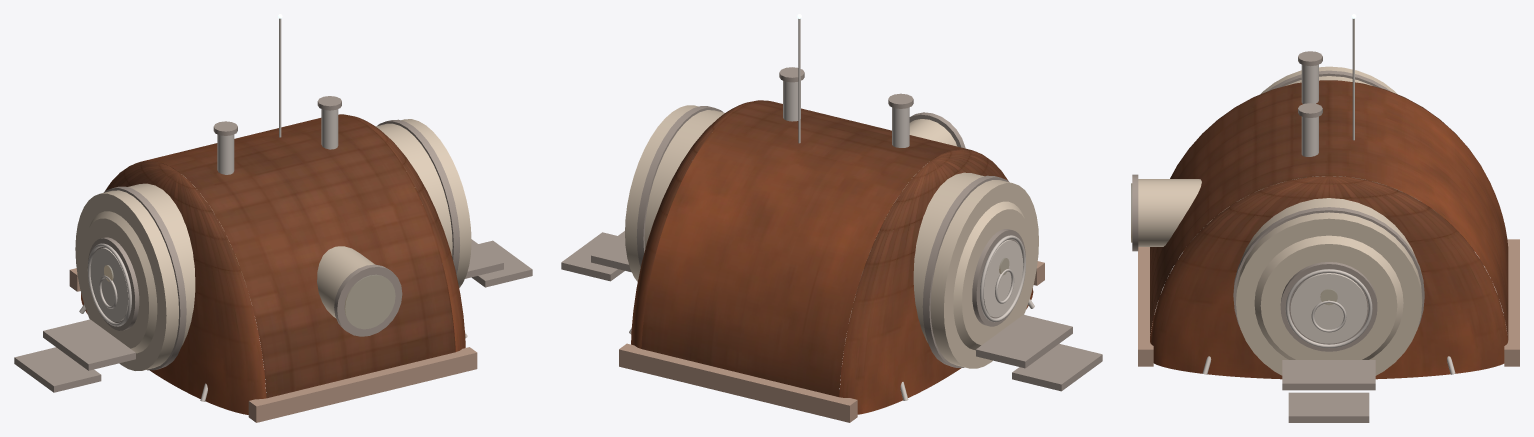
Rendered from W06_buried_habitat_6m.glb.
3 renders of one model, left to right at view 1: azimuth 30°, elevation 25°; view 2: azimuth 150°, elevation 25°; view 3: azimuth 270°, elevation 25°, orthographic. The views are drawn at different scales.
Parts seen in each view (by area): view 1: regolith_mound, hull_end, mound_end, end_ring, retaining_wall, seal, porthole; view 2: regolith_mound, hull_end, mound_end, end_ring, retaining_wall, seal; view 3: regolith_mound, mound_end, hull_end, end_ring, seal, retaining_wall.
Part boxes in pixels (x1=…): regolith_mound: x1=135, y1=114, x2=455, y2=398; hull_end: x1=75, y1=119, x2=471, y2=370; mound_end: x1=81, y1=114, x2=465, y2=414; end_ring: x1=14, y1=96, x2=532, y2=392; retaining_wall: x1=69, y1=268, x2=477, y2=422; seal: x1=79, y1=18, x2=467, y2=401; porthole: x1=104, y1=265, x2=395, y2=329; regolith_mound: x1=641, y1=100, x2=977, y2=396; hull_end: x1=625, y1=105, x2=1038, y2=368; mound_end: x1=631, y1=100, x2=1033, y2=414; end_ring: x1=561, y1=67, x2=1102, y2=391; retaining_wall: x1=619, y1=261, x2=1044, y2=422; seal: x1=629, y1=19, x2=1034, y2=400; regolith_mound: x1=1150, y1=81, x2=1508, y2=340; mound_end: x1=1150, y1=80, x2=1507, y2=379; hull_end: x1=1138, y1=66, x2=1422, y2=375; end_ring: x1=1132, y1=51, x2=1424, y2=422; seal: x1=1202, y1=18, x2=1455, y2=374; retaining_wall: x1=1138, y1=210, x2=1519, y2=366.
Size of the model in its own units: 9.1 by 5.49 by 6.26.
8 materials, 2 textured.
